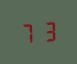seven: (19, 21, 37, 44)
three: (38, 20, 56, 42)
